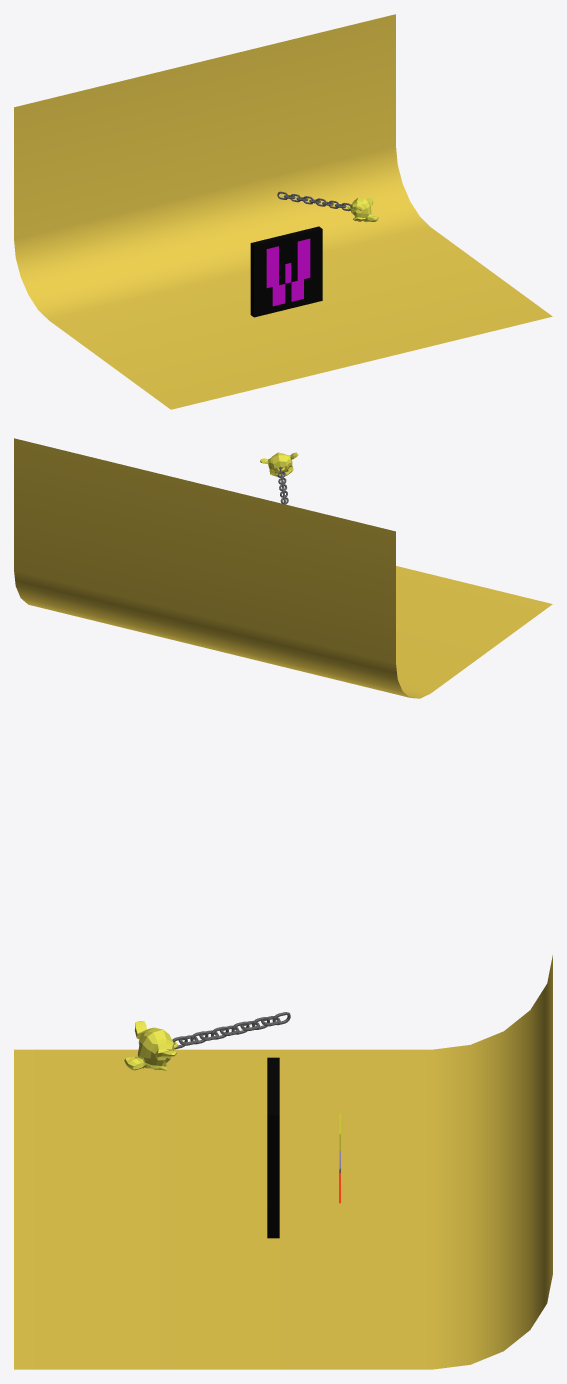
Rendered from textADI.fbx.
3 renders of one model, top to bottom at view 1: azimuth 30°, elevation 25°; view 2: azimuth 150°, elevation 25°; view 3: azimuth 270°, elevation 25°, orthographic. The views are drawn at different scales.
Parts seen in each view (by area): view 1: Plane.001, Torus; view 2: Plane.001, Torus; view 3: Plane.001, Torus.
Boxes of the visible parts, bbox=[...] form: Plane.001: bbox=[14, 14, 552, 409]; Torus: bbox=[347, 197, 378, 222]; Plane.001: bbox=[14, 438, 552, 698]; Torus: bbox=[260, 452, 298, 476]; Plane.001: bbox=[14, 955, 552, 1369]; Torus: bbox=[124, 1021, 177, 1070].
Size of the model in its own units: 21670 by 10168 by 15426.
